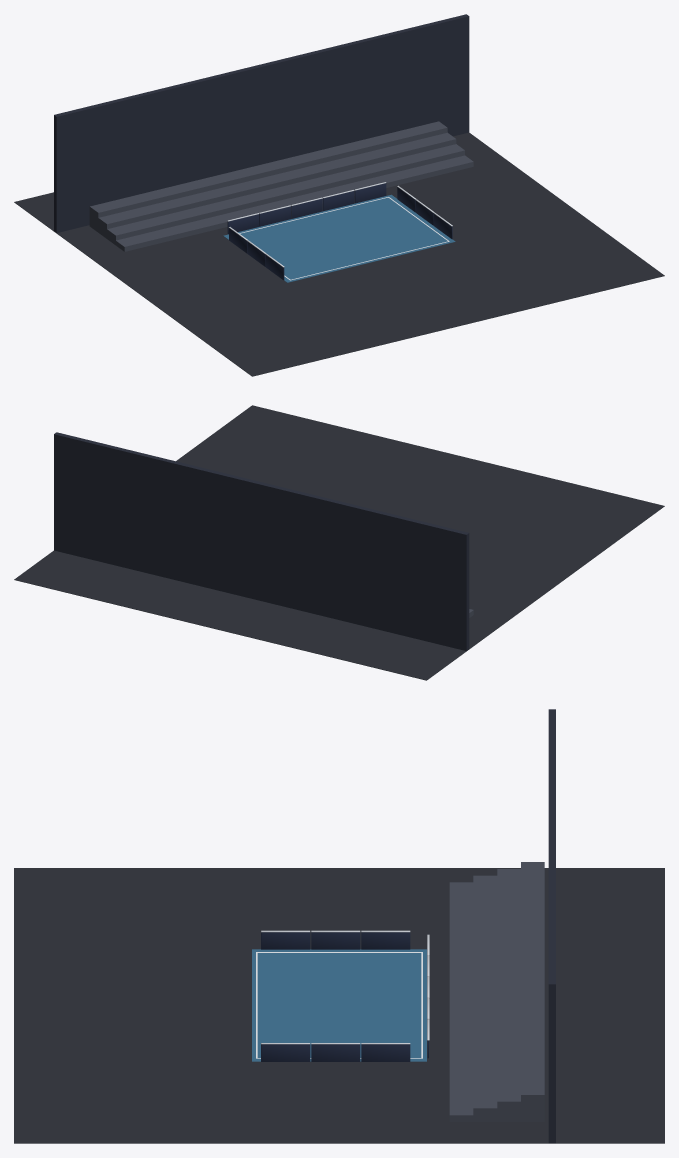
Rendered from ArenaStatic.fbx.
The picture shows the model from 3 angles, top to bottom: view 1: azimuth 30°, elevation 25°; view 2: azimuth 150°, elevation 25°; view 3: azimuth 270°, elevation 25°; orthographic projection. The views are drawn at different scales.
Parts seen in each view (by area): view 1: ArenaStatic; view 2: ArenaStatic; view 3: ArenaStatic.
Part boxes in pixels (bbox=[...]): ArenaStatic: bbox=[14, 14, 664, 376]; ArenaStatic: bbox=[14, 405, 664, 680]; ArenaStatic: bbox=[14, 709, 664, 1143].
Size of the model in its own units: 26 by 7.02 by 26.
